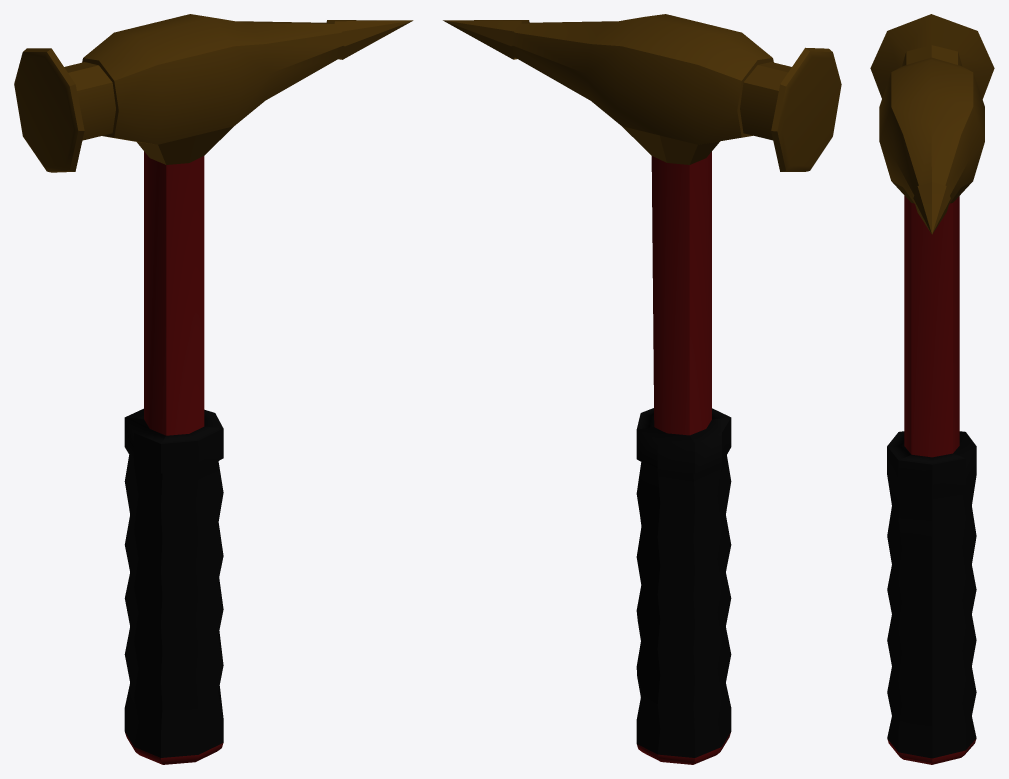
File: Hammer_Texture.obj
3 views of the same model, side by side, from view 1: azimuth 30°, elevation 25°; view 2: azimuth 150°, elevation 25°; view 3: azimuth 270°, elevation 25° (orthographic). The views are drawn at different scales.
Visible parts, largest first — view 1: Hammer; view 2: Hammer; view 3: Hammer.
Boxes of the visible parts, x1,y1,x2,y2 form: Hammer: [14, 14, 413, 764]; Hammer: [443, 14, 841, 764]; Hammer: [870, 14, 994, 764].
Bounding box in the file's own units: 4.84 × 9.14 × 1.52.
